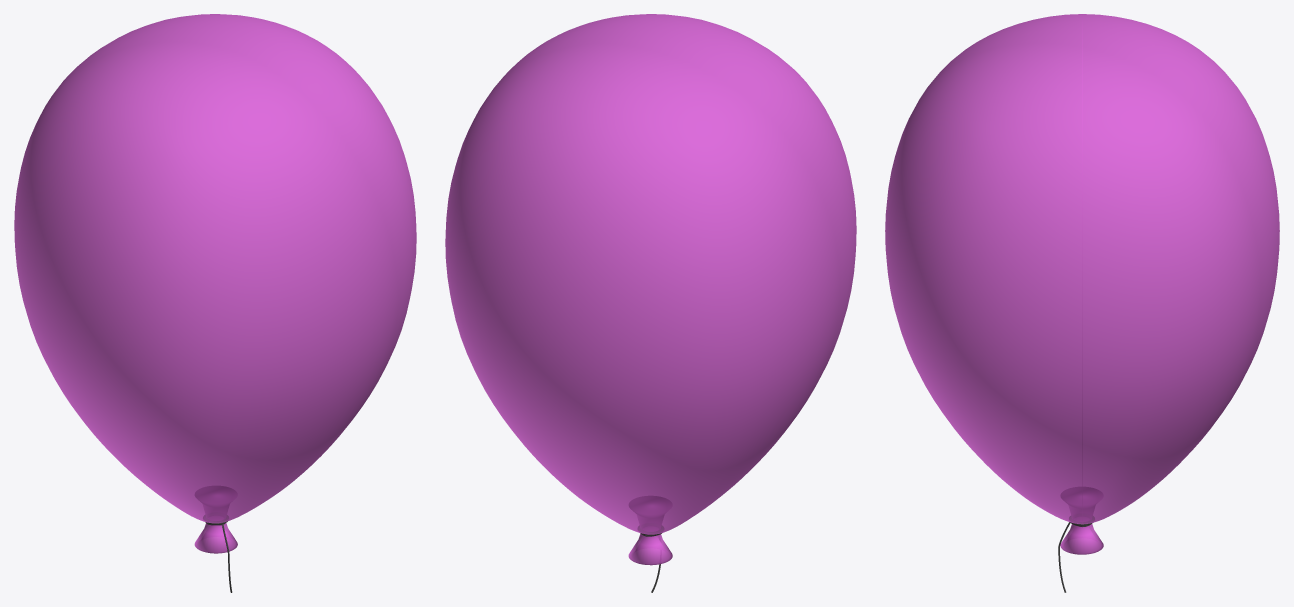
File: ballon_violet.glb
3 renders of one model, left to right at view 1: azimuth 30°, elevation 25°; view 2: azimuth 150°, elevation 25°; view 3: azimuth 270°, elevation 25°, orthographic. The views are drawn at different scales.
Parts seen in each view (by area): view 1: Cube.003, Cylinder.006; view 2: Cube.003, Cylinder.006; view 3: Cube.003, Cylinder.006.
Part boxes in pixels (x1,y1,x2,y2): Cube.003: (14, 14, 416, 523); Cylinder.006: (194, 486, 237, 553); Cube.003: (445, 14, 856, 534); Cylinder.006: (628, 496, 672, 565); Cube.003: (885, 14, 1279, 524); Cylinder.006: (1060, 487, 1103, 554).
Size of the model in its own units: 0.9787 by 1.52 by 0.9787.
